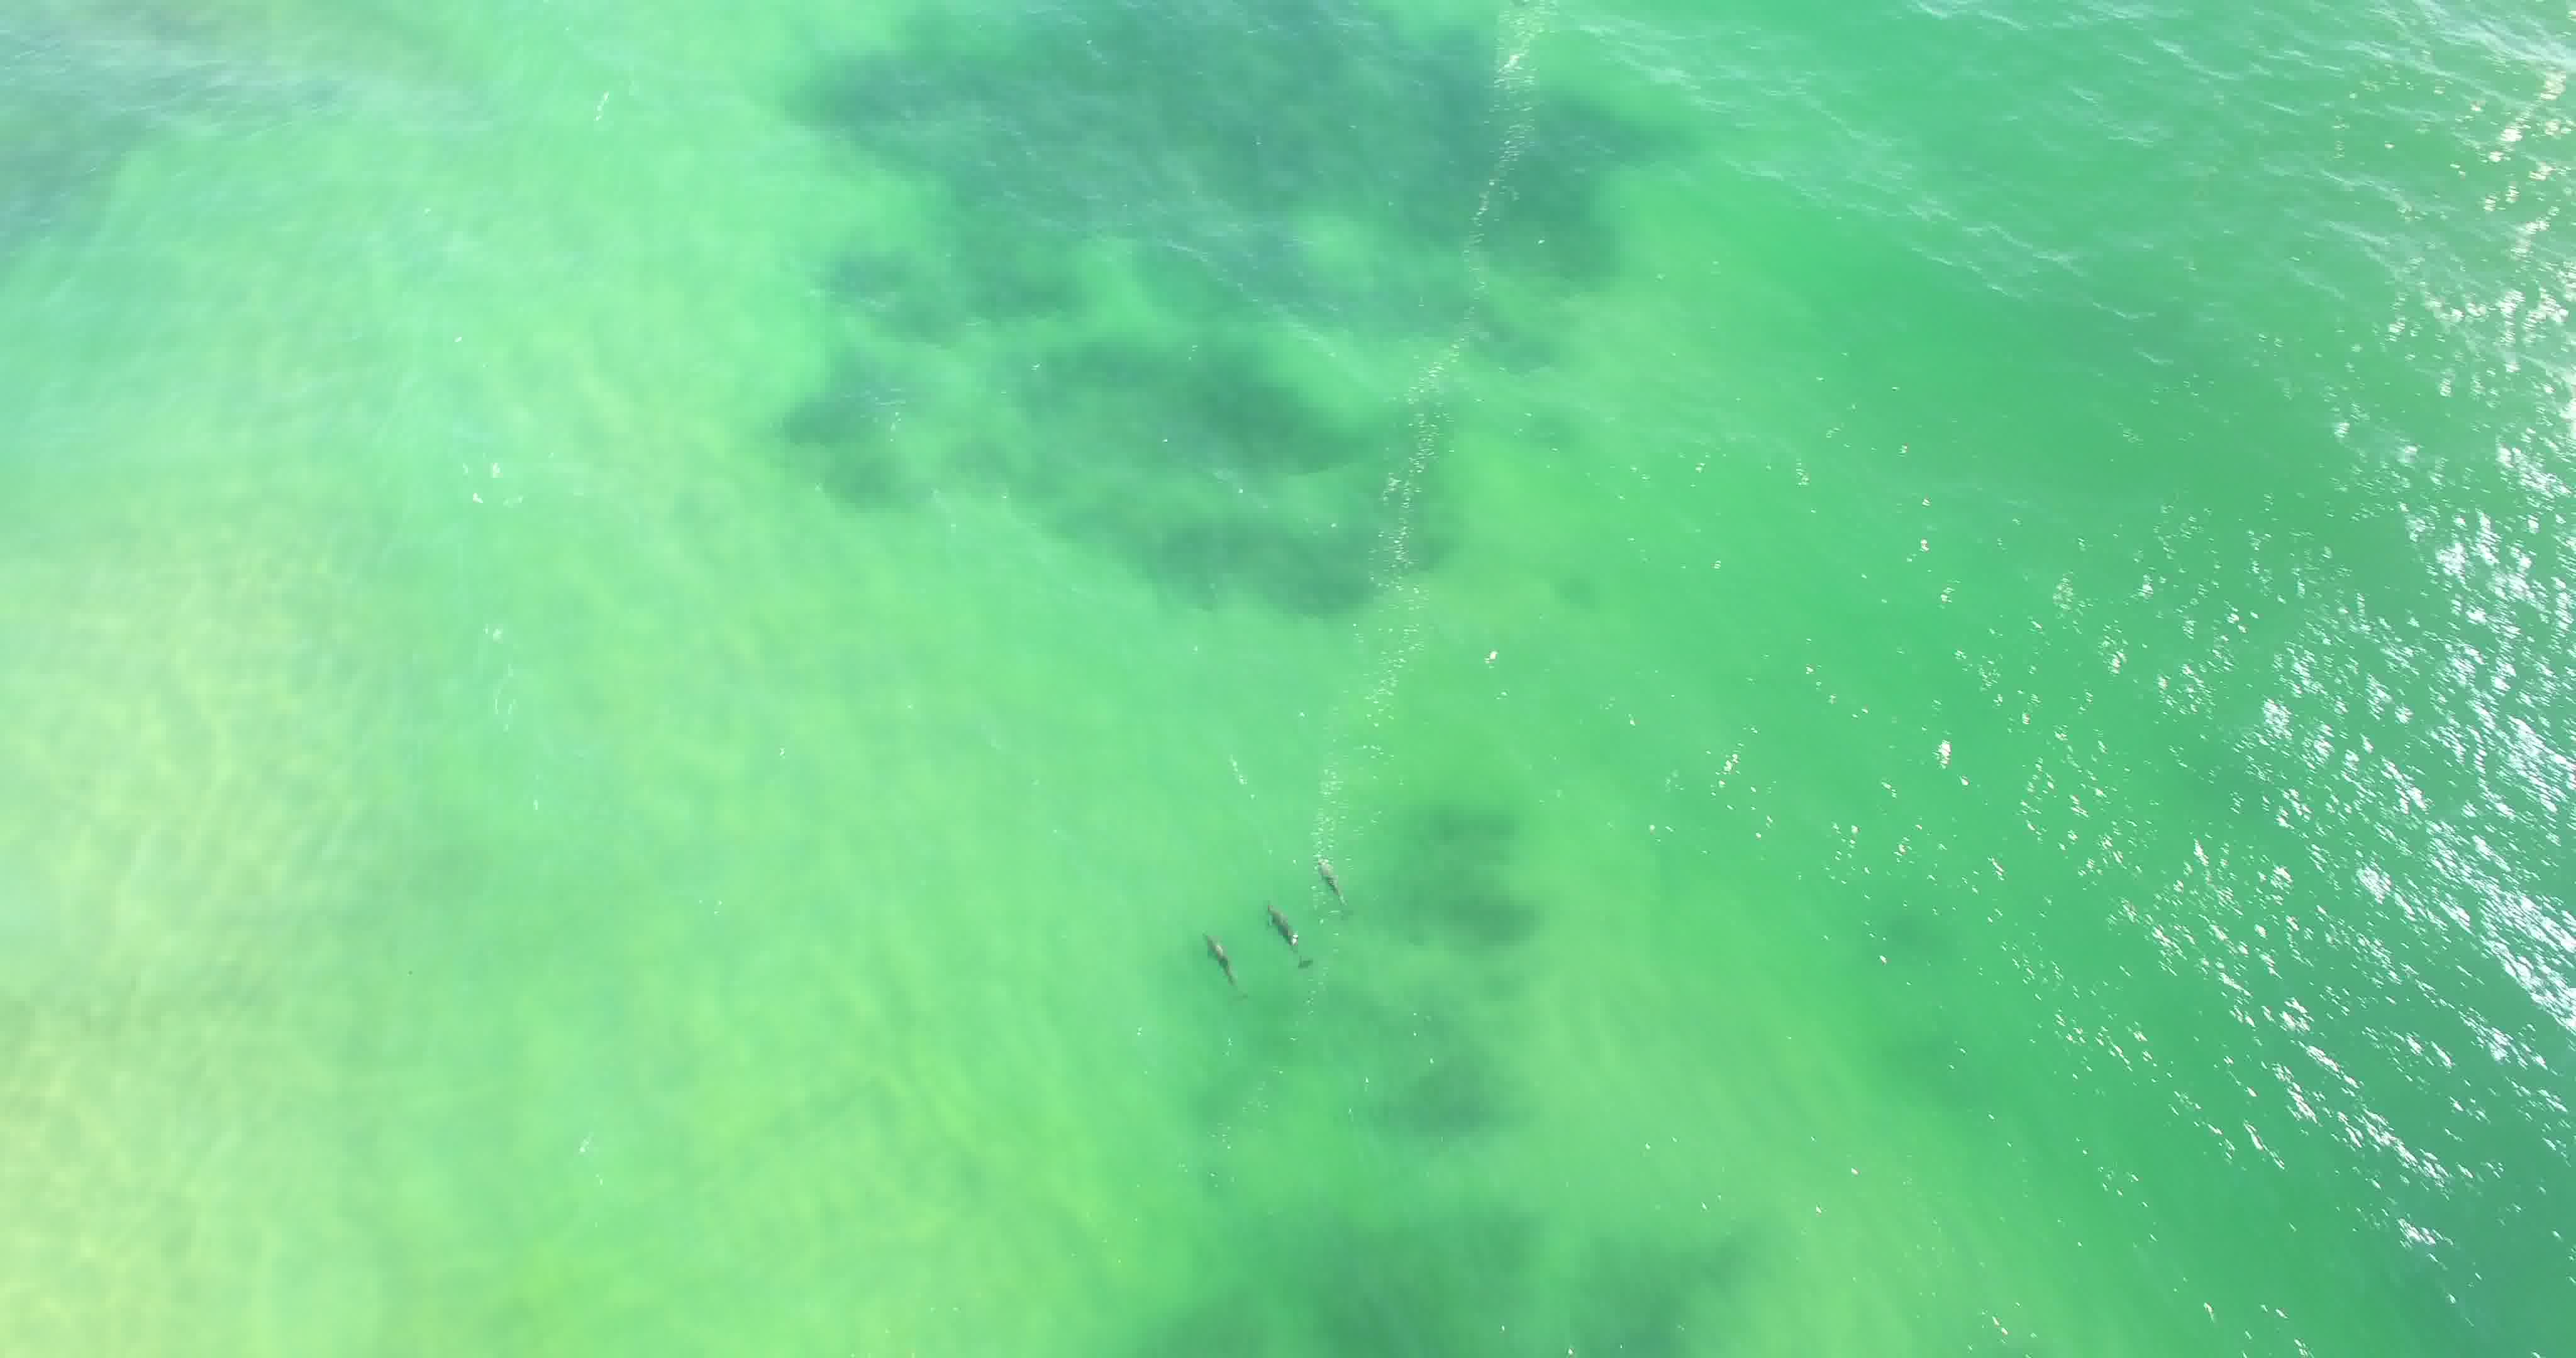dolphin: (1240, 881, 1325, 981), (1297, 825, 1365, 937), (1184, 912, 1256, 1010)
